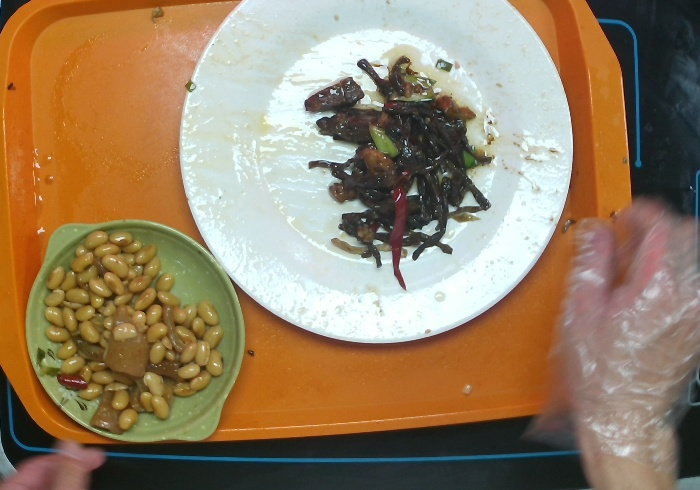NLDX-Da_Yuan_Pan: (177, 3, 575, 345)
NLDX-Lv_Hua_Shuang_Er_Die: (28, 219, 247, 445)
